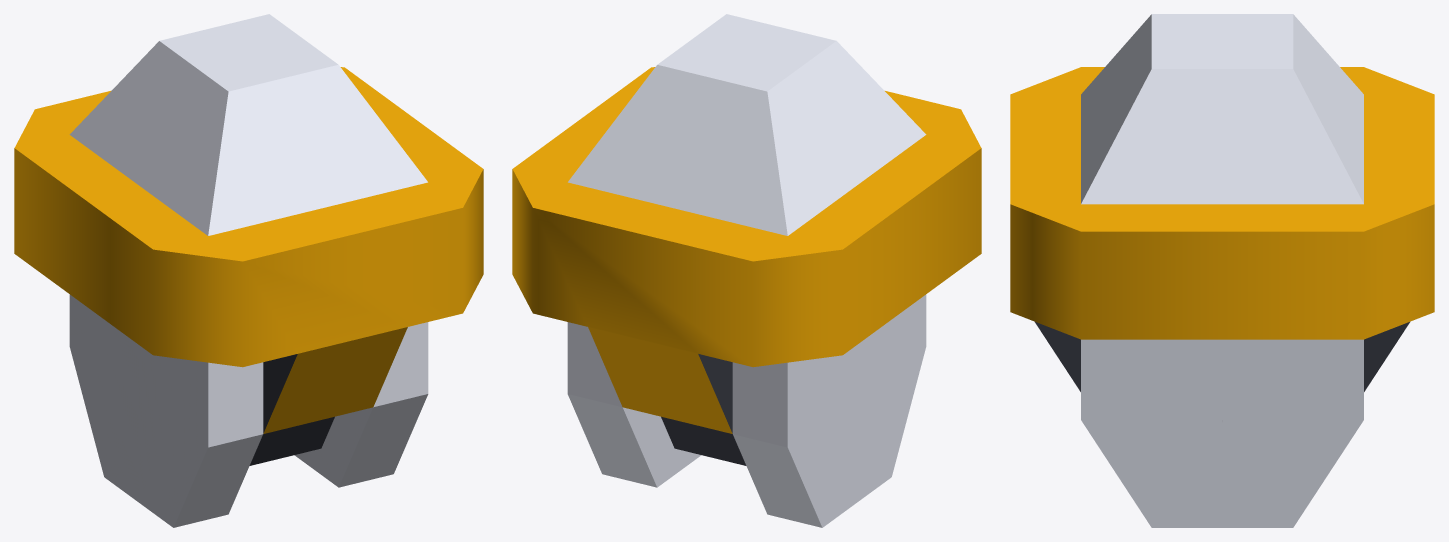
Rendered from Grapple Model.fbx.
3 views of the same model, side by side, from view 1: azimuth 30°, elevation 25°; view 2: azimuth 150°, elevation 25°; view 3: azimuth 270°, elevation 25° (orthographic). The views are drawn at different scales.
Parts seen in each view (by area): view 1: mergedBlocks; view 2: mergedBlocks; view 3: mergedBlocks.
Boxes of the visible parts, <box> form: mergedBlocks: <box>14,14,483,527</box>; mergedBlocks: <box>512,14,981,527</box>; mergedBlocks: <box>1010,14,1434,527</box>.
Size of the model in its own units: 6.54 by 8 by 7.13.
